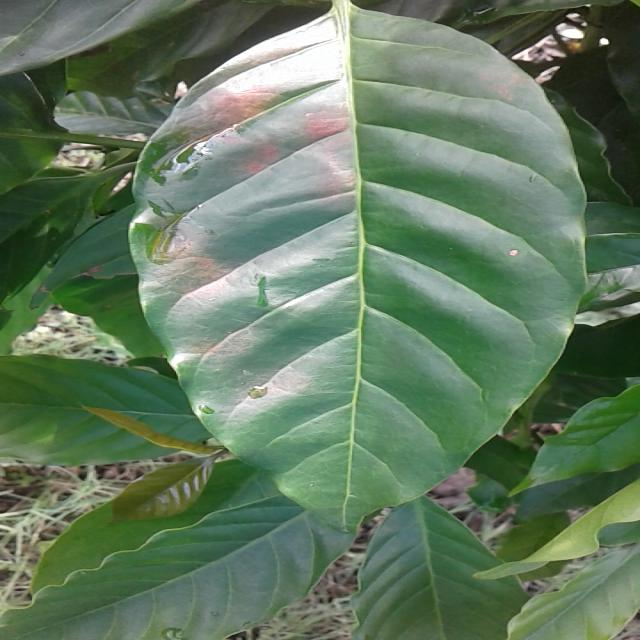Plaga-AranaRoja: (126, 13, 588, 534)
